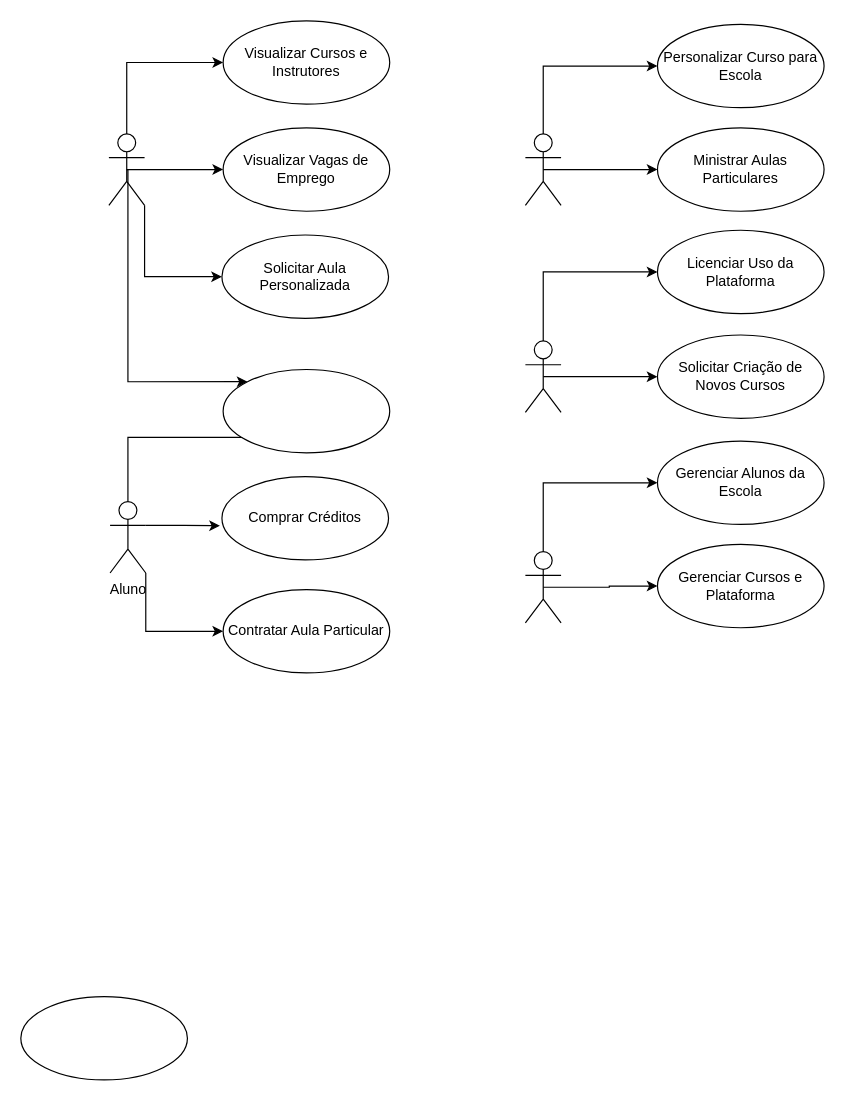
This 845x1101 diagram has some shape labels left out. The shapes that lost their labels are listed below. From the top down, each one's centre as x and y in pixels, then its label:
At point 126,169: "Visitante".
At point 542,169: "Professor".
At point 542,376: "Escola".
At point 306,410: "Assistir Aulas de Cursos Livres".
At point 542,586: "Mantenedor".
At point 103,1037: "Ver Propagandas".
